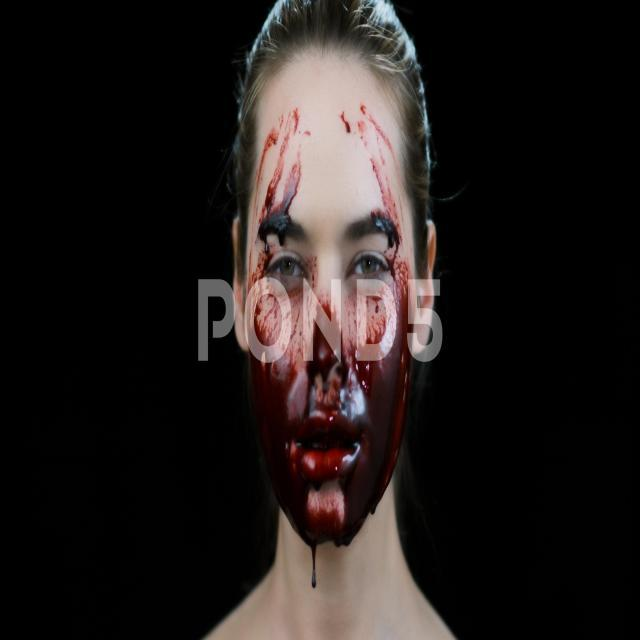flood: (244, 111, 419, 574)
